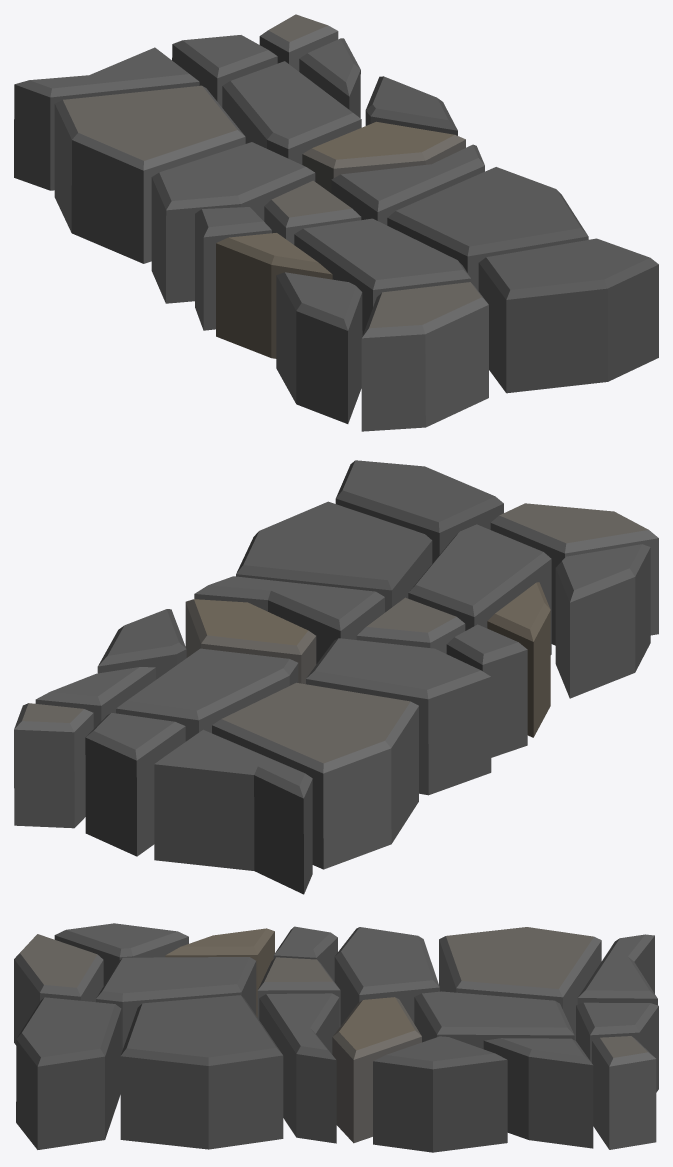
File: road_1.fbx
3 views of the same model, one above another, from view 1: azimuth 30°, elevation 25°; view 2: azimuth 150°, elevation 25°; view 3: azimuth 270°, elevation 25° (orthographic). The views are drawn at different scales.
Parts seen in each view (by area): view 1: Cube.002; view 2: Cube.002; view 3: Cube.002.
Part boxes in pixels (x1,y1,x2,y2): Cube.002: [14, 14, 658, 431]; Cube.002: [14, 460, 658, 894]; Cube.002: [14, 923, 658, 1152].
Bounding box in the file's own units: 149 × 44.17 × 287.
